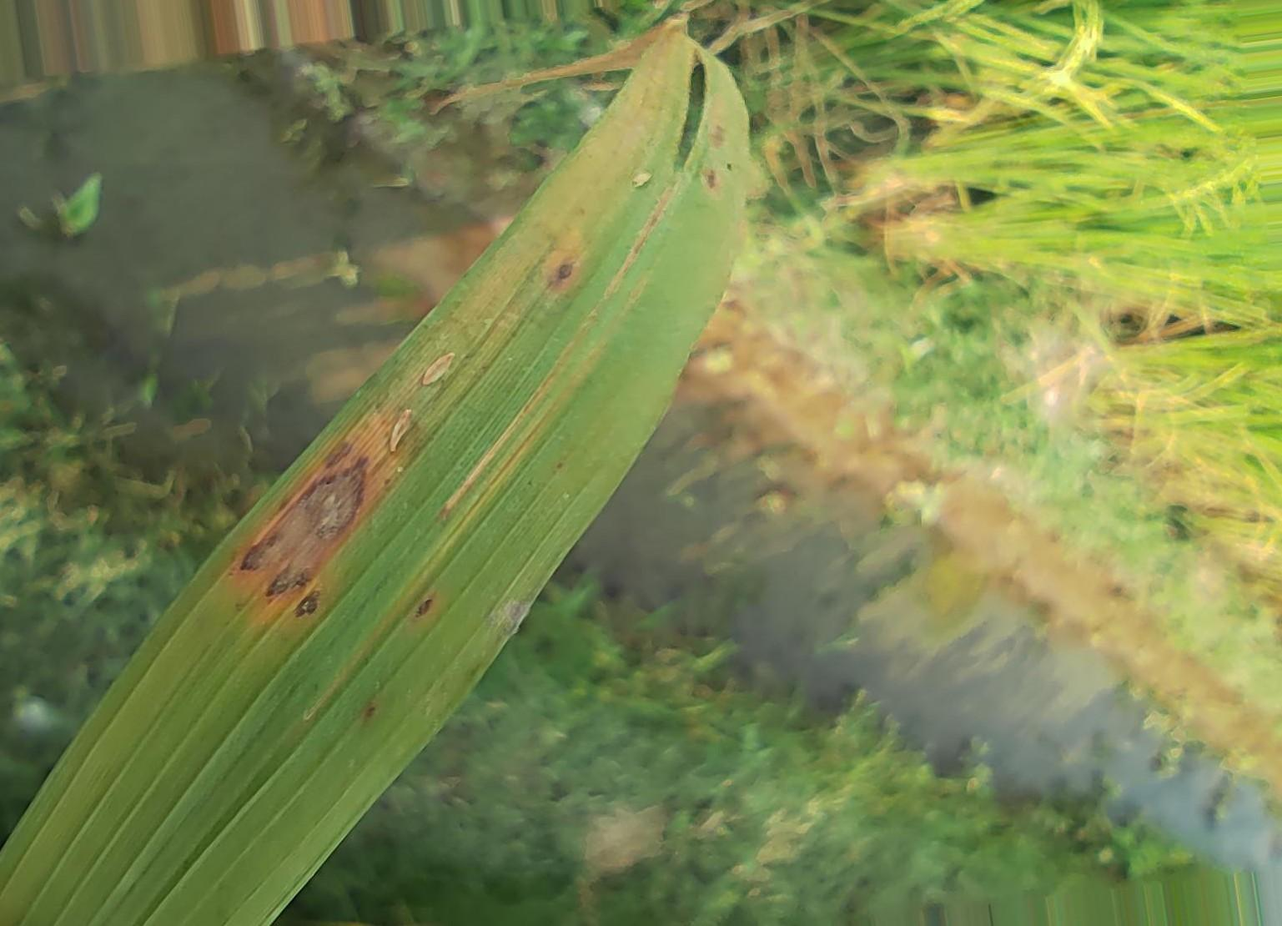LEAF: (0, 21, 756, 925)
LEAF BLAST: (240, 455, 367, 597), (295, 593, 318, 615), (556, 262, 573, 279)
